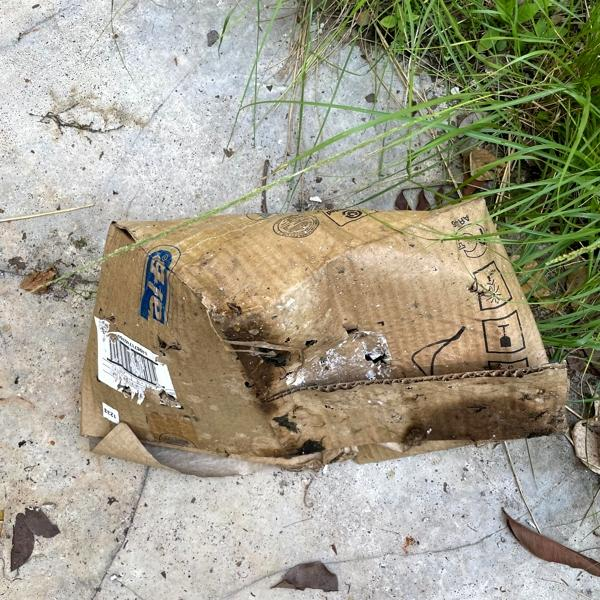Organik: (76, 197, 583, 486)
